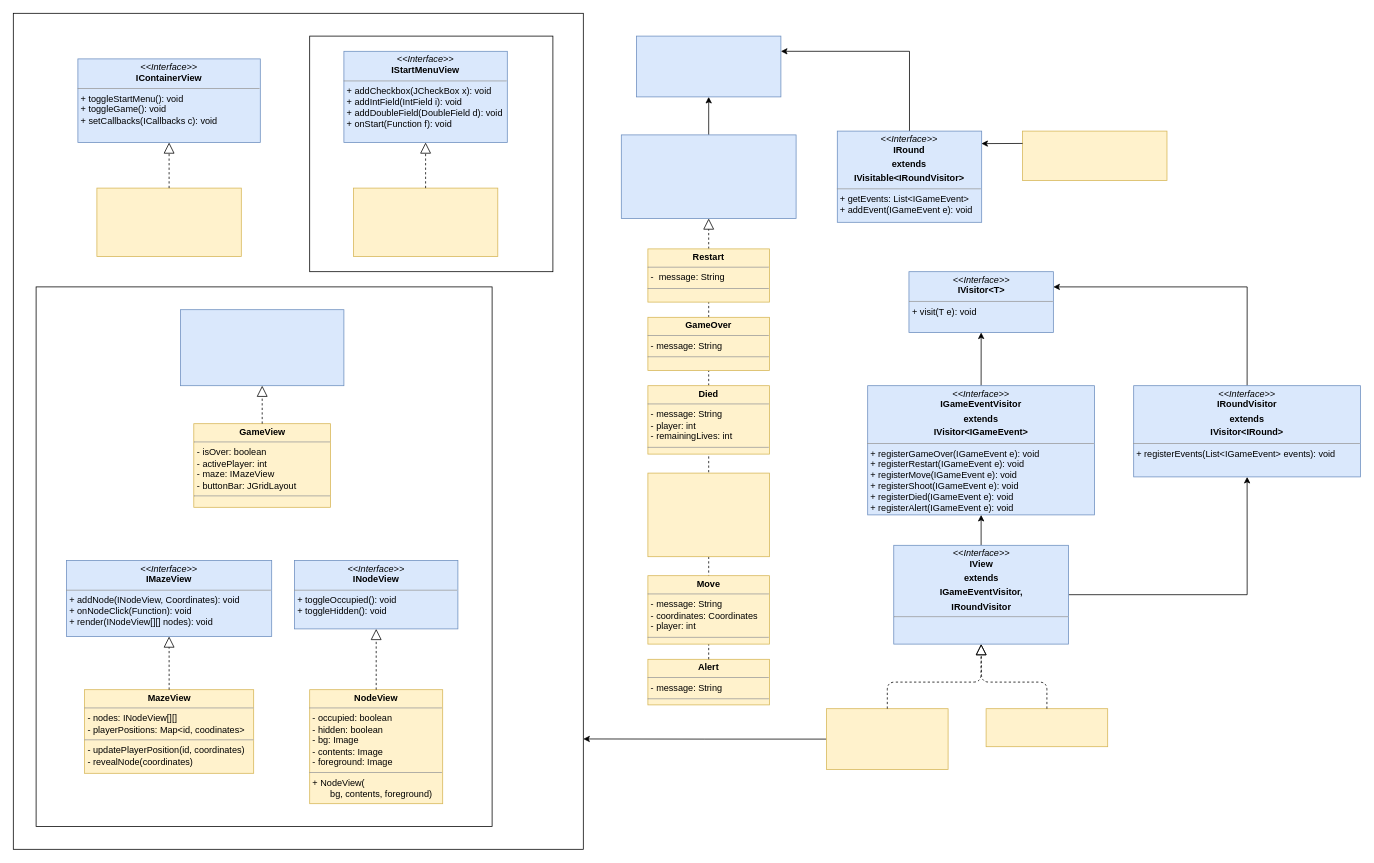
Image size: 1374x863. Some labels were removed from this diagram. The box of each missing label's shape, as (x1, y1, x2, y2) in pixels:
<<Interface>> IGameEvent extends IVisitable<IGameEventVisitor>: (621, 134, 796, 218)
<<Interface>> IGameView + toggleTurn(): void + setCallbacks(ICallbacks c): void: (180, 309, 344, 386)
<<Interface>> IVisitable<T extends IVisitor> + receive(T visitor): void: (636, 35, 781, 97)
ConsoleView - out: Appendable: (985, 708, 1108, 747)
ContainerView - startMenu: IStartMenuView - gameView: IGameView: (96, 187, 241, 256)
GUIView - container: IContainerView - buffer: StringBuffer: (826, 708, 948, 770)
Round - events: List<IGameEvent>: (1022, 130, 1167, 180)
Shoot - message: String - hit: boolean - remainingArrows: int - player: int: (647, 472, 770, 557)
StartMenuView - form: JForm - onSubmit: Function: (353, 187, 498, 256)
